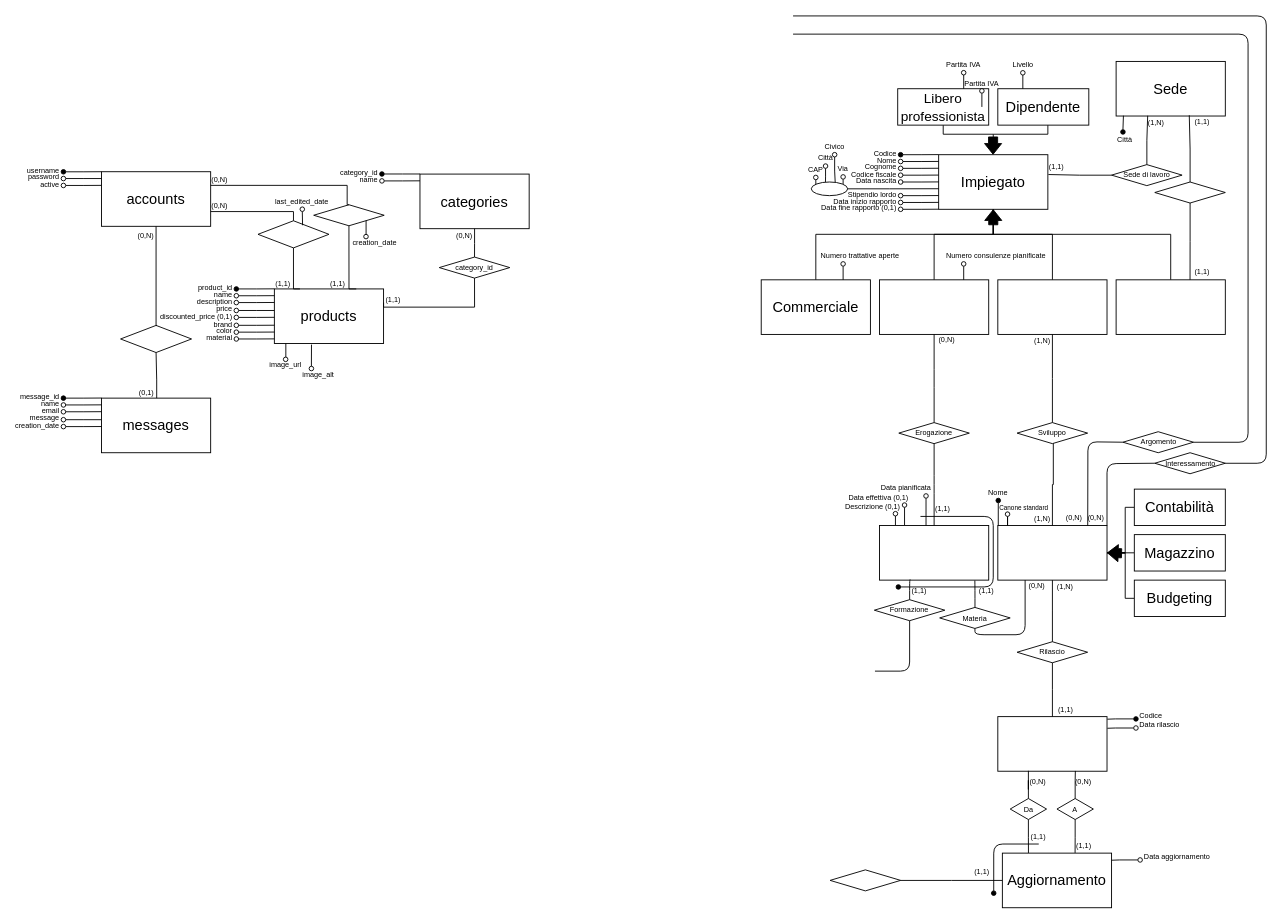
Some shapes in this 1283 by 924 pixel diagram are drawn without their labels. Each missing label, with the centre of its shape:
Consulente: pixel 934 306
Consulenza: pixel 934 552
created_by: pixel 348 215
first_viewed_by: pixel 156 339
Indirizzo: pixel 829 188
last_edited_by: pixel 293 234
Prodotto: pixel 1052 552
Responsabile: pixel 1170 306
Richiesta: pixel 865 880
Supervisione: pixel 1189 192
Sviluppatore: pixel 1052 306
Versione: pixel 1052 743
